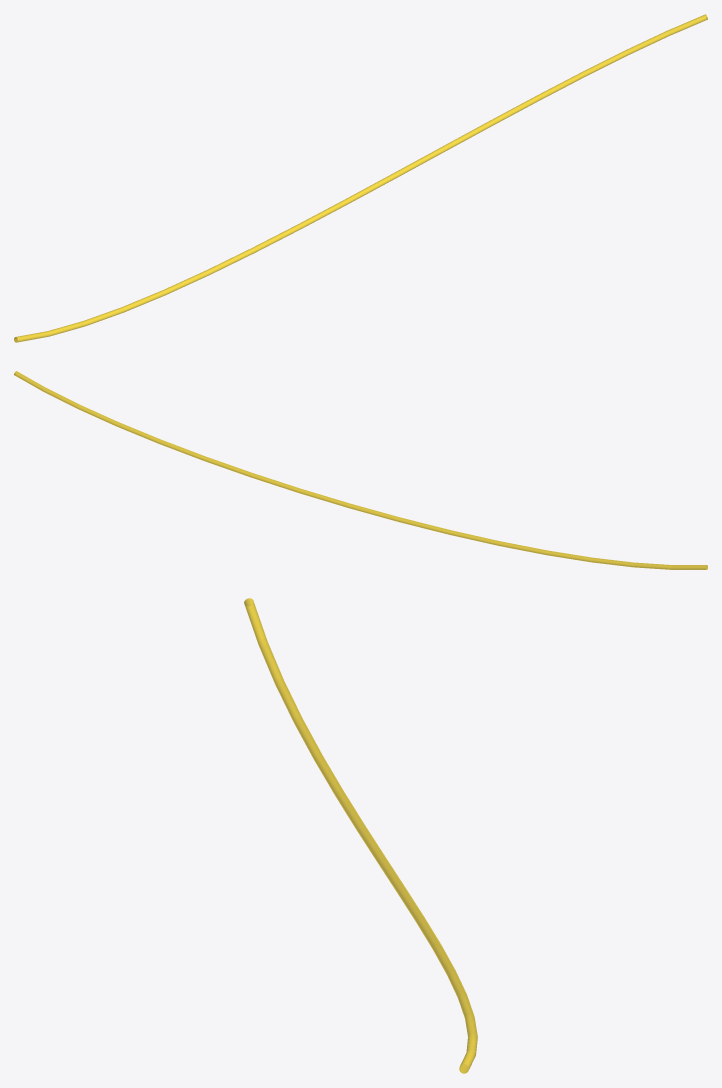
File: Event_27938768_track_54.fbx
3 views of the same model, one above another, from view 1: azimuth 30°, elevation 25°; view 2: azimuth 150°, elevation 25°; view 3: azimuth 270°, elevation 25° (orthographic). The views are drawn at different scales.
Parts seen in each view (by area): view 1: Model; view 2: Model; view 3: Model.
Boxes of the visible parts, x1=… form: Model: x1=14, y1=14, x2=707, y2=342; Model: x1=14, y1=371, x2=707, y2=569; Model: x1=244, y1=598, x2=477, y2=1073.
Bounding box in the file's own units: 5.99 × 0.8166 × 0.9494.
